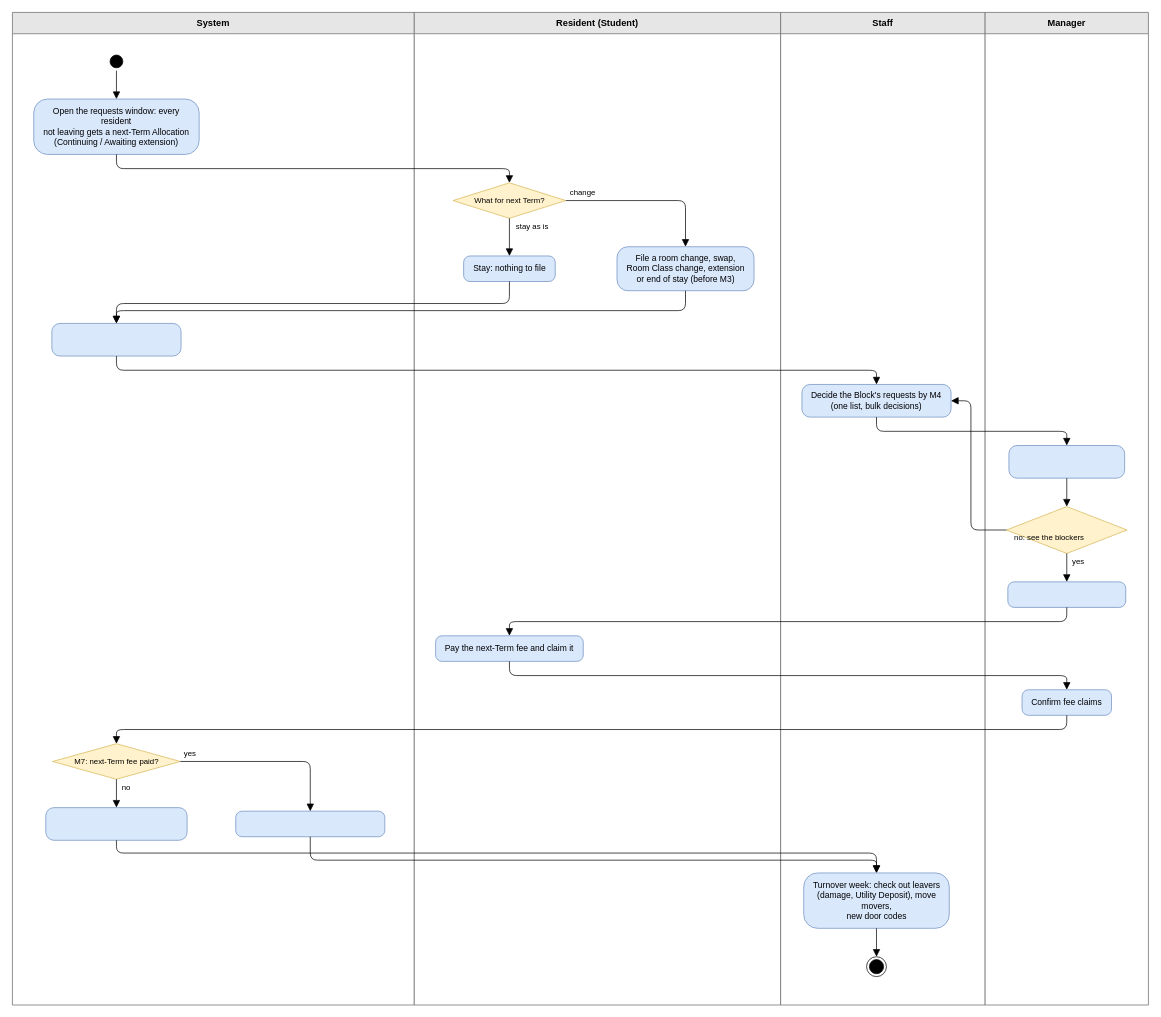
This 1161x1017 diagram has some shape labels left out. Each missing label, with the centre of its shape:
"Cancel the next-Term Allocation, Bed released (Round 2)" goes at (116,823).
"Continuing resident keeps the Bed" goes at (310,823).
"Issue next-Term fees (M6)" goes at (1066,594).
"M3: close filing; not extended → next-Term Bed released" goes at (116,339).
"Reconcile the enrolled list (resolve groups 1–2)" goes at (1066,461).
"Requests decided and list reconciled?" goes at (1066,529).
